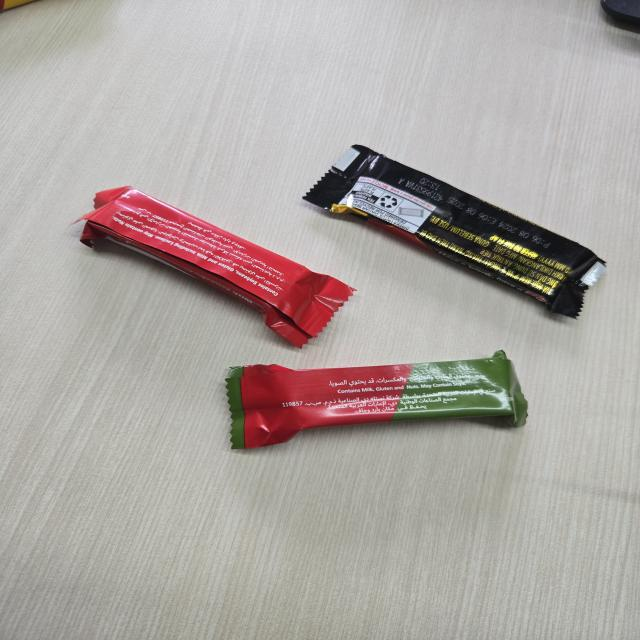chocolate-bar: (294, 138, 616, 324), (74, 182, 363, 358), (213, 352, 534, 450)
